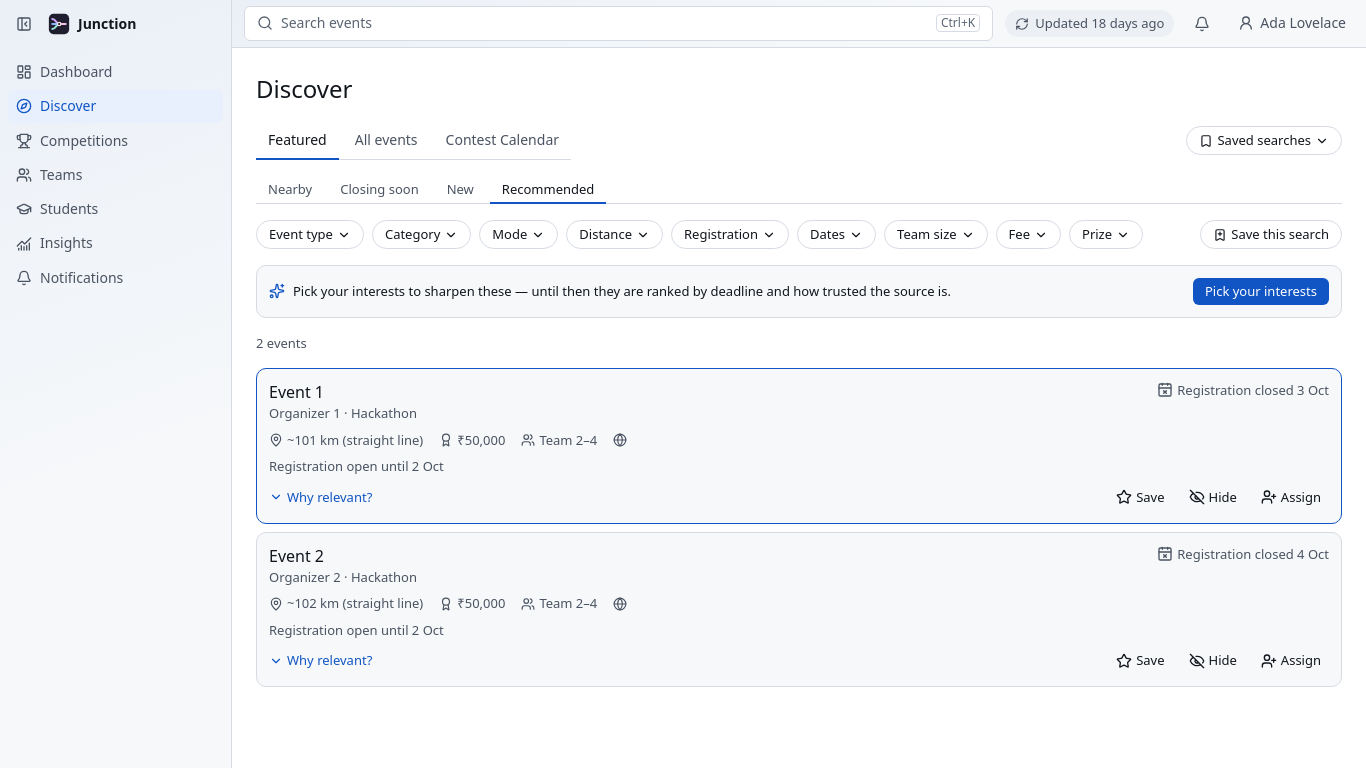
Test: the assign flow (R98) › "Just considering" creates it at Considering
Expected: the navigation bar named "Main" is shown, [0,0,231,302]
Expected: the heading "Event 1" is shown, [269,381,324,404]
Type keys "a"
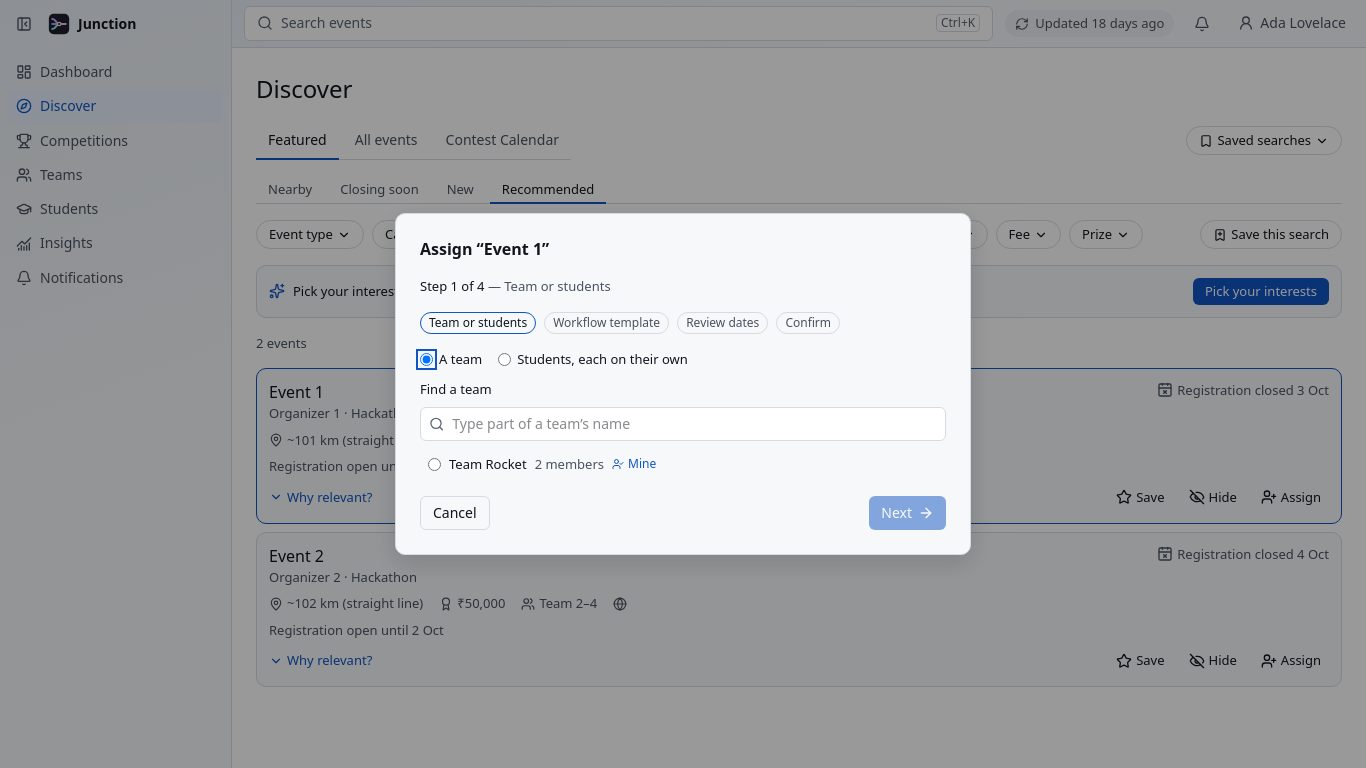
Click the radio button labelled "Team Rocket 2 members Mine": click(434, 464) [428,458,441,471]
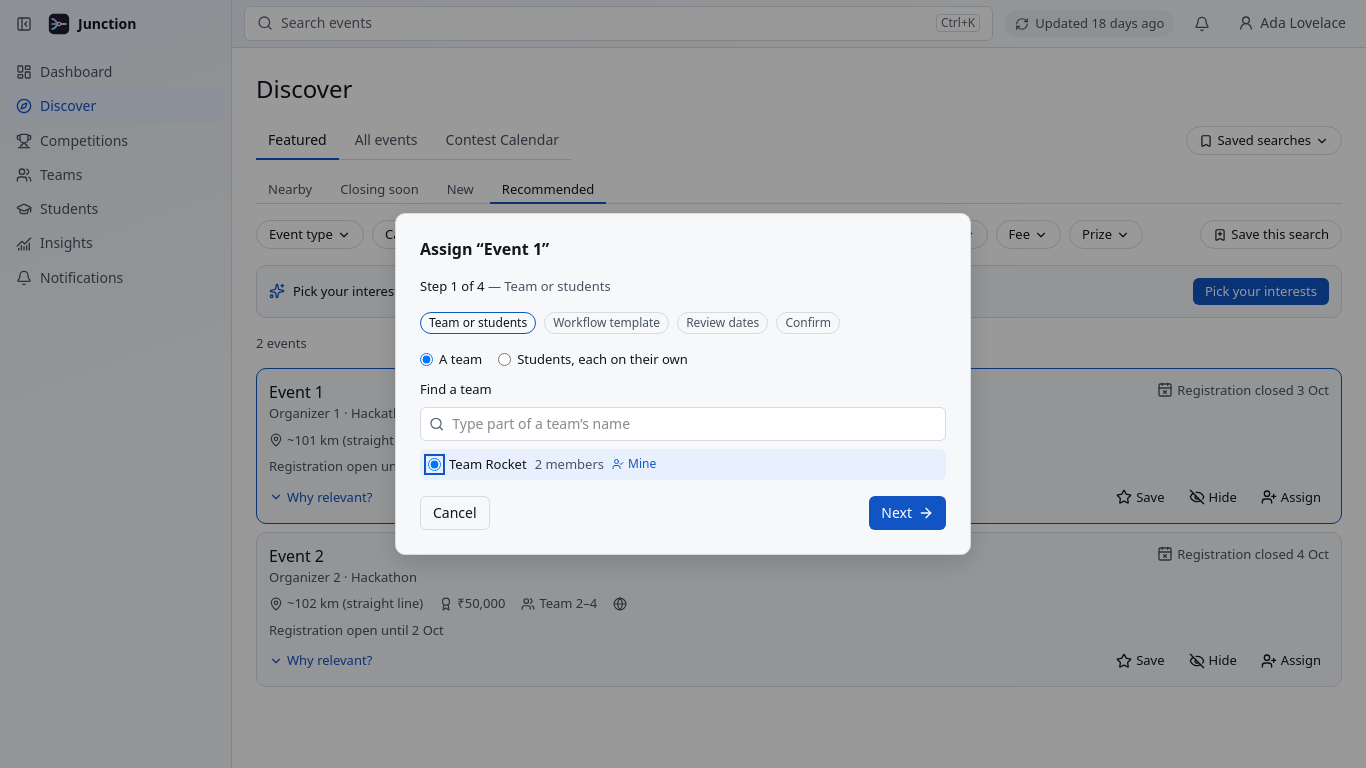
Click the button "Next": click(908, 513) [869,496,946,530]
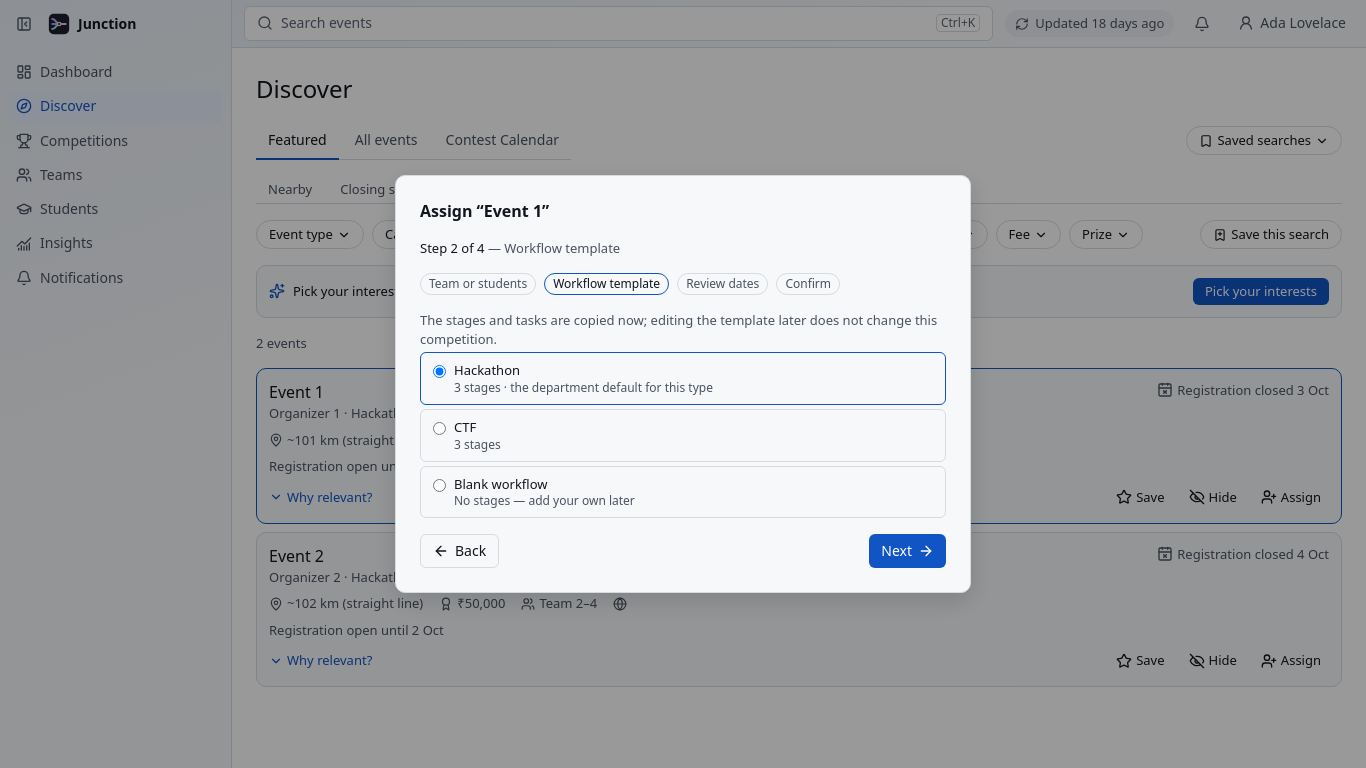
Expected: the radio button labelled "Hackathon 3 stages · the department default for this type" is shown, [433,365,446,378]
Click the button "Next": click(908, 551) [869,534,946,568]
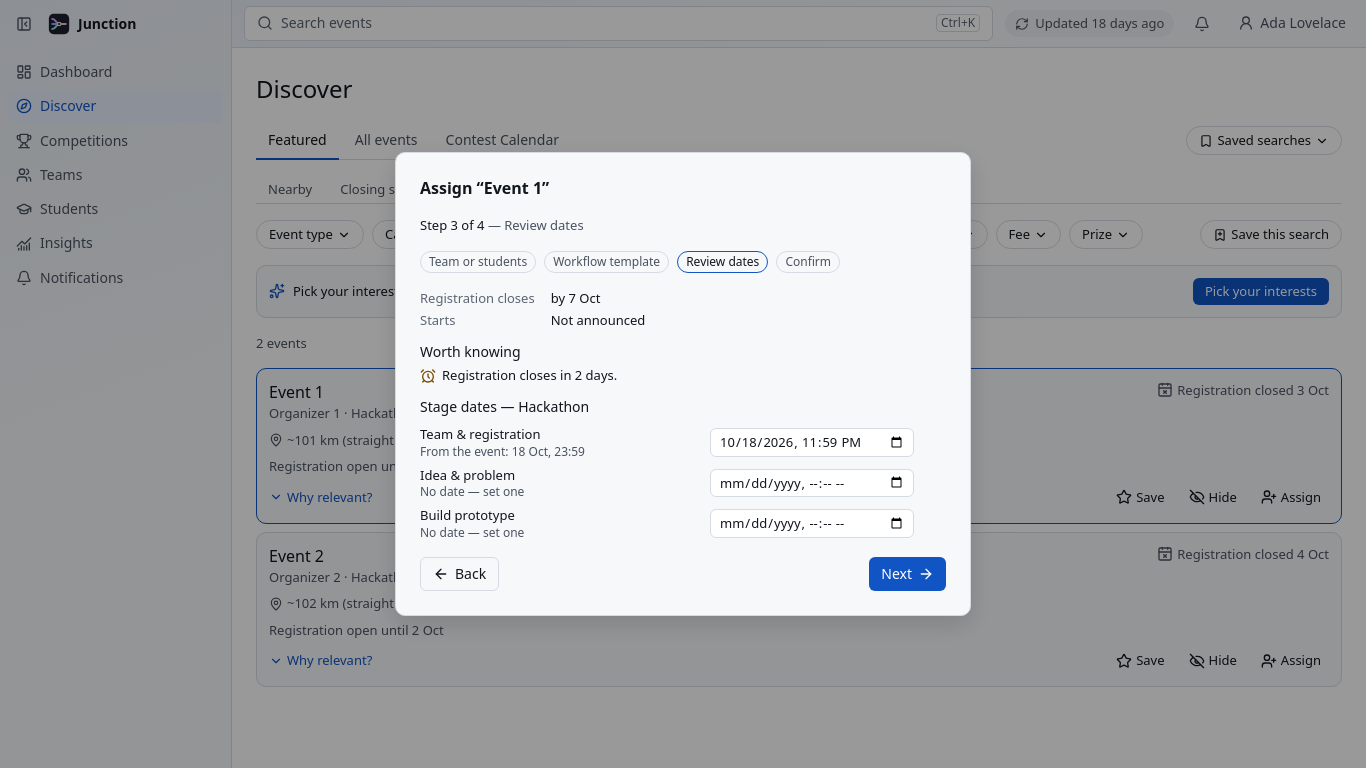
Expected: the text "by 7 Oct" is shown, [551,289,600,307]
Click the button "Next": click(908, 574) [869,557,946,591]
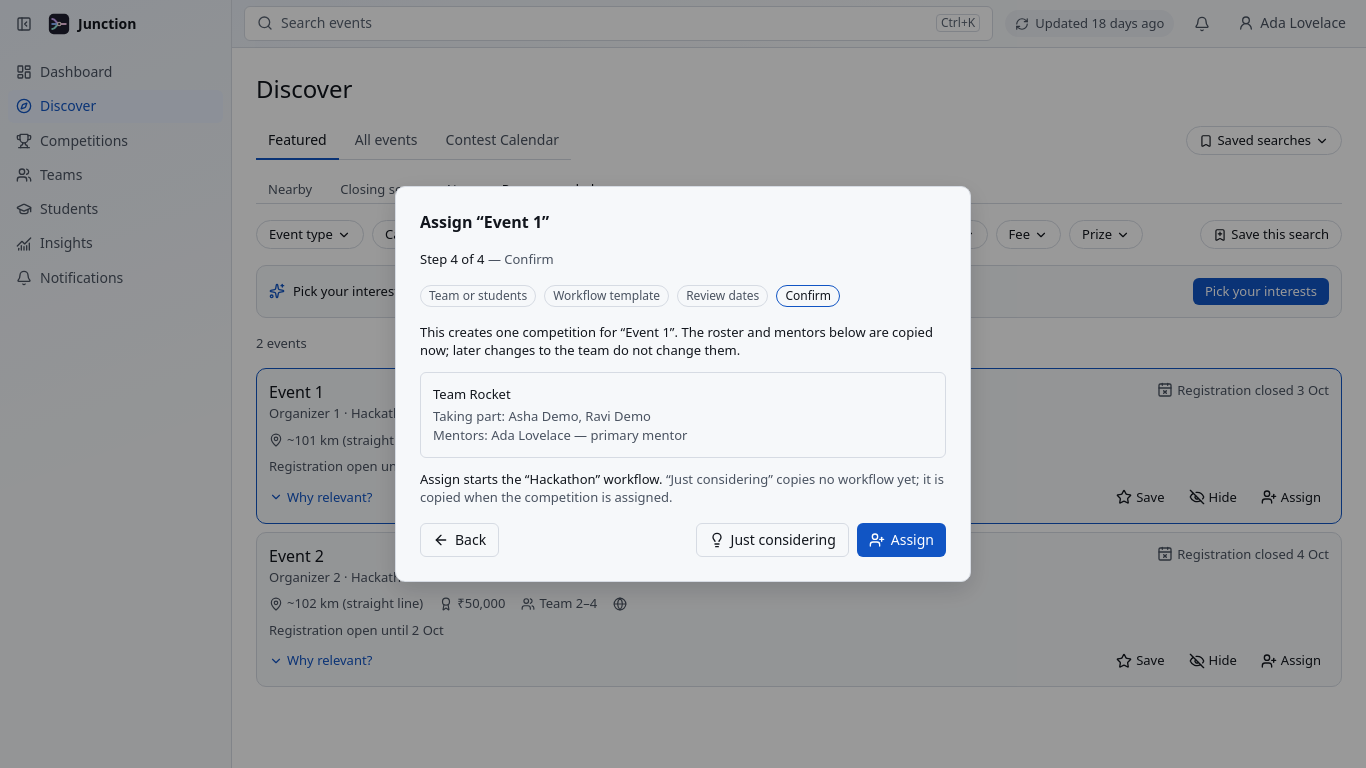
Click the button "Just considering": click(772, 540) [696,523,849,557]
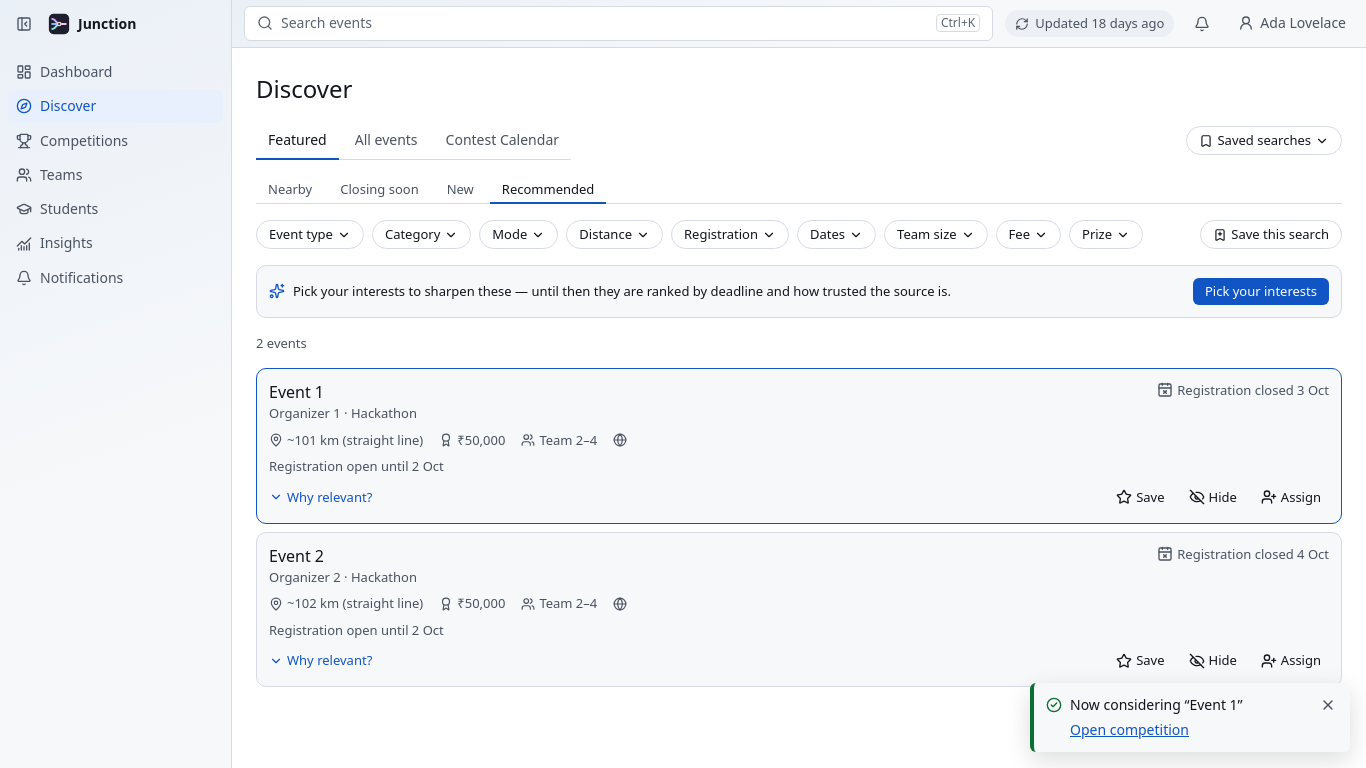
Expected: the text "Now considering “Event 1”" is shown, [1069,694,1243,714]
